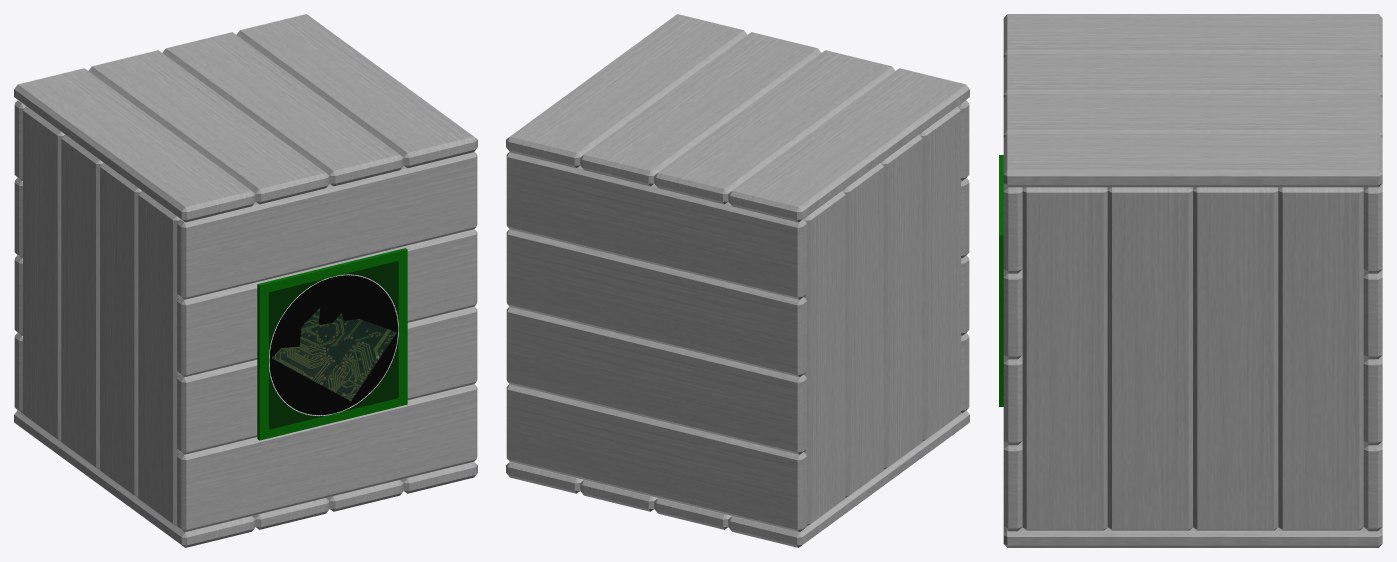
Rendered from Crate Green.fbx.
3 views of the same model, side by side, from view 1: azimuth 30°, elevation 25°; view 2: azimuth 150°, elevation 25°; view 3: azimuth 270°, elevation 25° (orthographic). The views are drawn at different scales.
Parts seen in each view (by area): view 1: pCube3; view 2: pCube3; view 3: pCube3.
Boxes of the visible parts, x1,y1,x2,y2 form: pCube3: (14,14,477,547); pCube3: (506,14,969,547); pCube3: (999,14,1382,547).
Bounding box in the file's own units: 4 × 4.4 × 4.05.
Materials: 3 (2 with a texture image).
